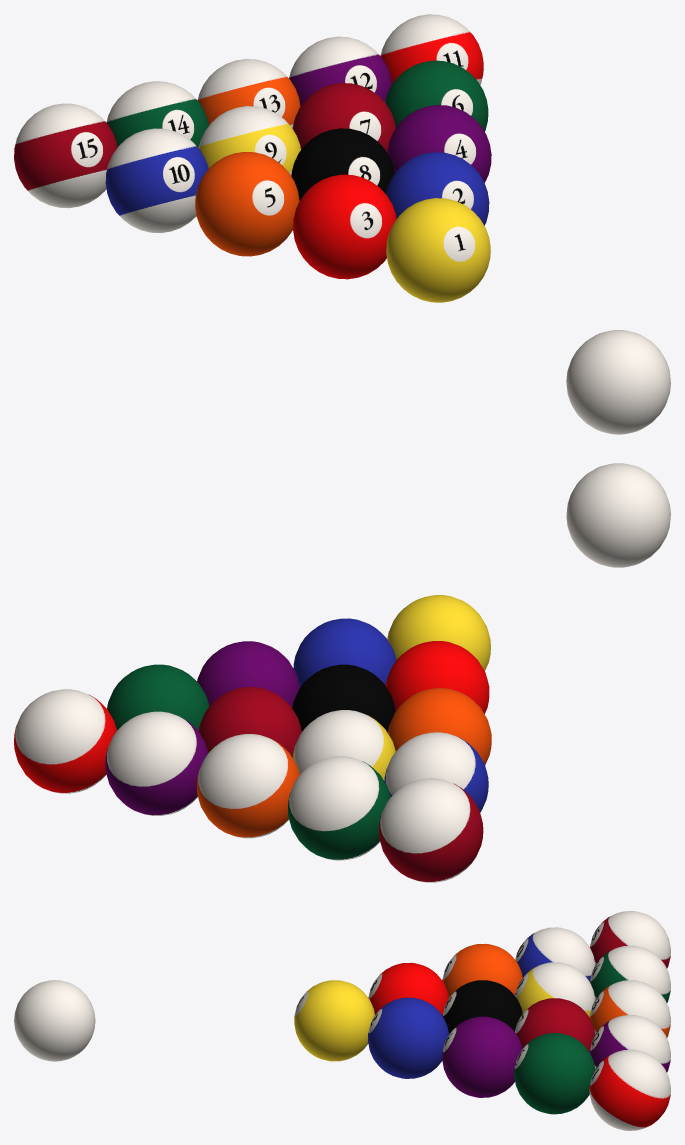
File: balls.obj
The picture shows the model from 3 angles, top to bottom: view 1: azimuth 30°, elevation 25°; view 2: azimuth 150°, elevation 25°; view 3: azimuth 270°, elevation 25°; orthographic projection. The views are drawn at different scales.
Visible parts, largest first — view 1: Ball_Clube_10_-_Default_0, Ball1_01_-_Default_0, Ball5_08_-_Default_0, Ball3_03_-_Default_0, Ball15_06_-_Default_0, Ball10_19_-_Default_0, Ball4_07_-_Default_0, Ball11_20_-_Default_0, Ball2_02_-_Default_0, Ball8_14_-_Default_0, Ball13_04_-_Default_0, Ball12_21_-_Default_0 (+4 smaller); view 2: Ball_Clube_10_-_Default_0, Ball15_06_-_Default_0, Ball11_20_-_Default_0, Ball12_21_-_Default_0, Ball13_04_-_Default_0, Ball14_05_-_Default_0, Ball10_19_-_Default_0, Ball3_03_-_Default_0, Ball1_01_-_Default_0, Ball7_13_-_Default_0, Ball5_08_-_Default_0, Ball2_02_-_Default_0 (+4 smaller); view 3: Ball_Clube_10_-_Default_0, Ball11_20_-_Default_0, Ball6_09_-_Default_0, Ball2_02_-_Default_0, Ball1_01_-_Default_0, Ball4_07_-_Default_0, Ball13_04_-_Default_0, Ball12_21_-_Default_0, Ball5_08_-_Default_0, Ball14_05_-_Default_0, Ball15_06_-_Default_0, Ball8_14_-_Default_0 (+4 smaller).
Part boxes in pixels (x1,y1,x2,y2): Ball_Clube_10_-_Default_0: (566,330,670,434); Ball1_01_-_Default_0: (386,198,490,302); Ball5_08_-_Default_0: (195,152,299,256); Ball3_03_-_Default_0: (293,174,396,279); Ball15_06_-_Default_0: (14,103,117,208); Ball10_19_-_Default_0: (105,128,208,233); Ball4_07_-_Default_0: (387,105,491,182); Ball11_20_-_Default_0: (380,14,483,84); Ball2_02_-_Default_0: (386,152,489,225); Ball8_14_-_Default_0: (291,128,394,200); Ball13_04_-_Default_0: (197,59,300,128); Ball12_21_-_Default_0: (289,36,391,106); Ball_Clube_10_-_Default_0: (566,463,670,567); Ball15_06_-_Default_0: (379,778,483,882); Ball11_20_-_Default_0: (14,689,116,793); Ball12_21_-_Default_0: (105,711,208,815); Ball13_04_-_Default_0: (196,734,299,838); Ball14_05_-_Default_0: (288,756,390,860); Ball10_19_-_Default_0: (384,732,488,812); Ball3_03_-_Default_0: (385,641,489,713); Ball1_01_-_Default_0: (387,595,490,670); Ball7_13_-_Default_0: (198,687,301,757); Ball5_08_-_Default_0: (388,688,491,765); Ball2_02_-_Default_0: (293,618,396,687); Ball_Clube_10_-_Default_0: (14,980,95,1061); Ball11_20_-_Default_0: (589,1049,670,1130); Ball6_09_-_Default_0: (514,1033,595,1114); Ball2_02_-_Default_0: (368,997,448,1078); Ball1_01_-_Default_0: (294,980,374,1061); Ball4_07_-_Default_0: (442,1016,522,1097); Ball13_04_-_Default_0: (589,980,670,1037); Ball12_21_-_Default_0: (589,1015,670,1072); Ball5_08_-_Default_0: (442,943,522,998); Ball14_05_-_Default_0: (590,945,670,1002); Ball15_06_-_Default_0: (590,911,670,968); Ball8_14_-_Default_0: (442,980,522,1034).
Size of the model in its own units: 0.2623 by 0.0522 by 0.4207.
Materials: 16 (16 with a texture image).
